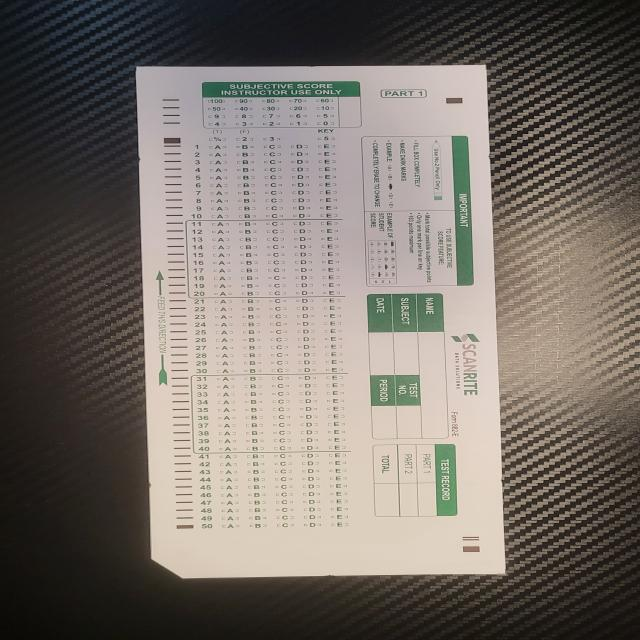scantron: (135, 63, 507, 578)
